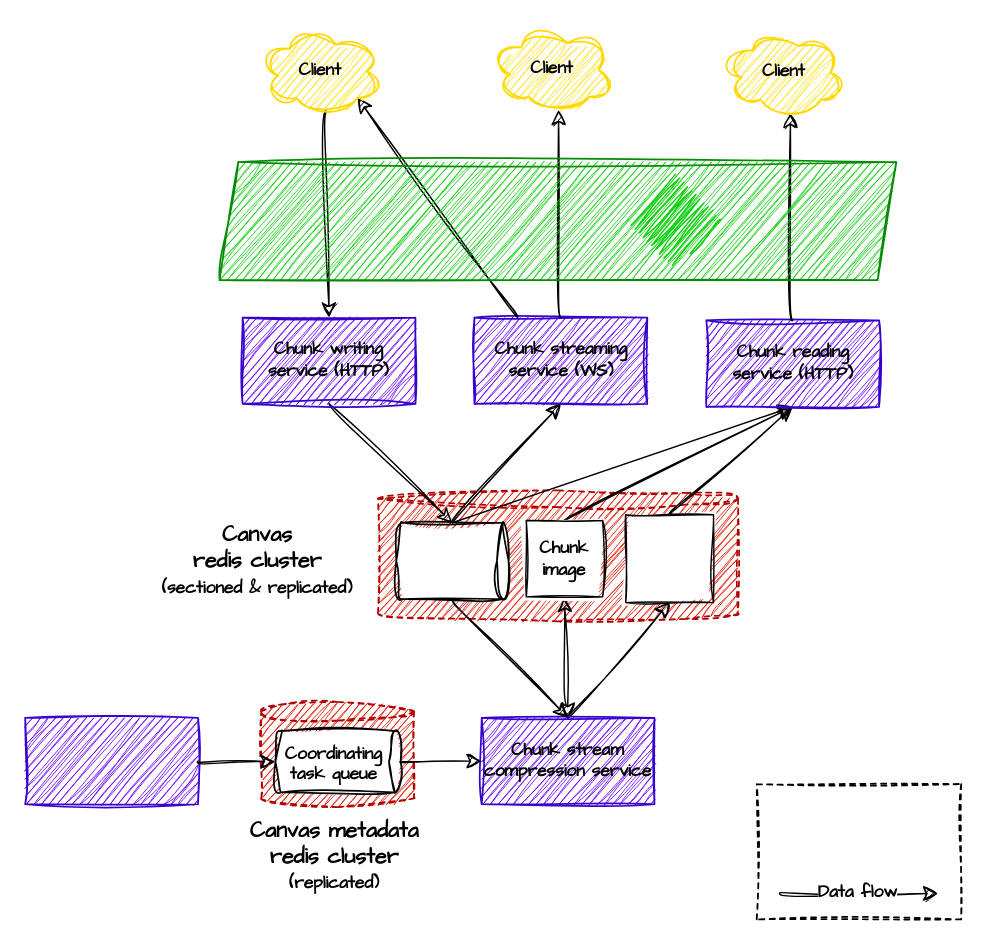
This 988x946 diagram has some shape labels left out. Each missing label, with the centre of its shape:
Chunk image stream offset: [669,558]
Chunk pixel stream: [452,560]
Chunk stream compression coordination service: [111,760]
Legend: [858,851]
Nginx: [673,220]
